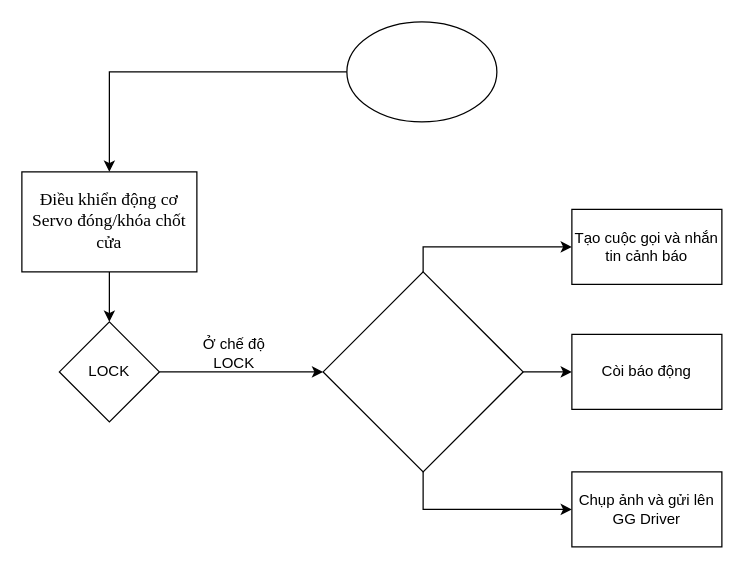
Image size: 744x569. Some labels were removed from this diagram. The shapes that lost their labels are listed below. From the top down, each one's centre as x and y in pixels, then its label:
(421,71): ESP32 Cam
(422,371): Cảm biến nhận tín hiệu có tác động làm rung cửa.
